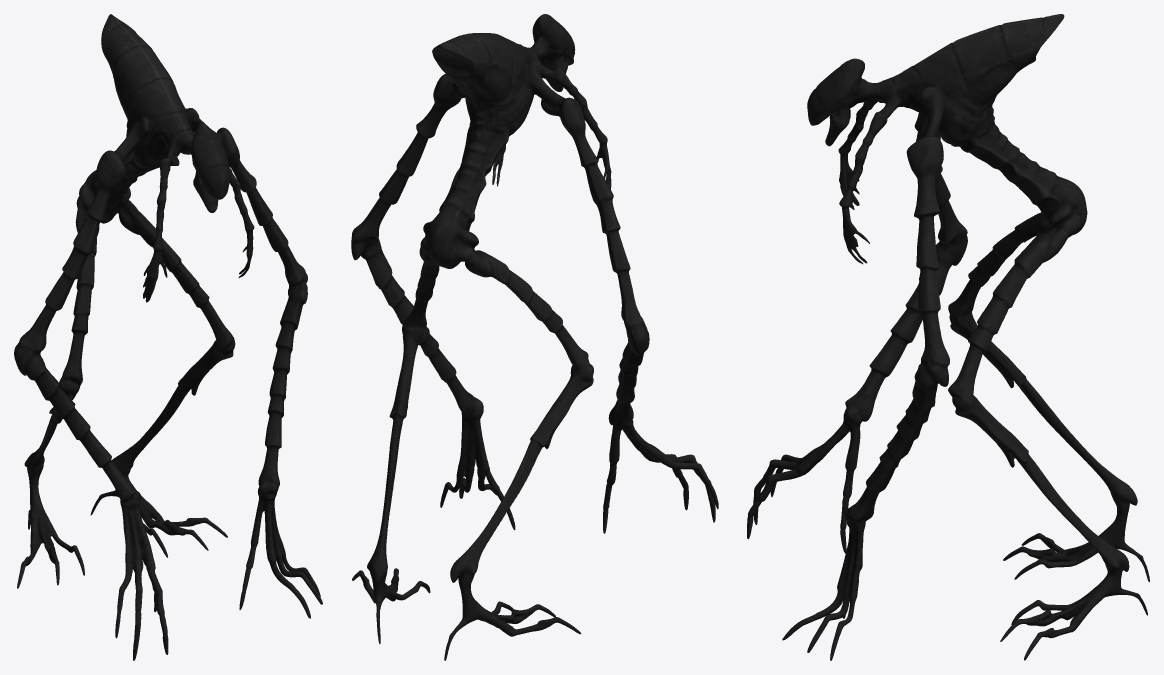
File: ElTrepador.glb
3 renders of one model, left to right at view 1: azimuth 30°, elevation 25°; view 2: azimuth 150°, elevation 25°; view 3: azimuth 270°, elevation 25°, orthographic. The views are drawn at different scales.
Size of the model in its own units: 1.05 by 1.9 by 1.17.
Materials: 1 (1 with a texture image).
